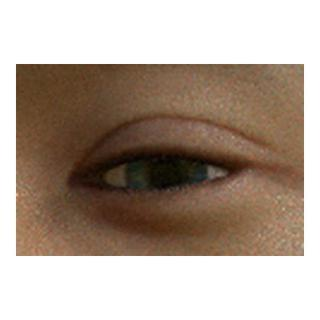pupil: (152, 161, 180, 189)
